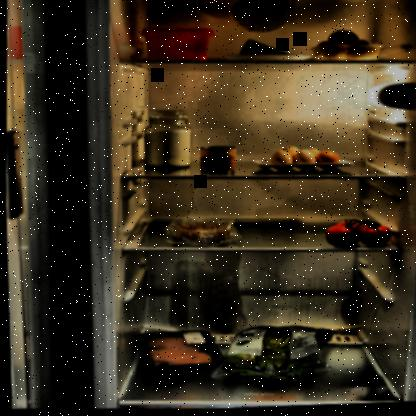butter: (138, 26, 216, 66)
cheese: (237, 41, 293, 64)
chicken: (144, 332, 215, 374)
corn: (199, 146, 236, 178)
eggs: (267, 146, 340, 175)
shrimp: (168, 219, 231, 249)
spinach: (210, 324, 337, 388)
sweet_potato: (308, 30, 384, 68)
tomato: (321, 218, 392, 252)
